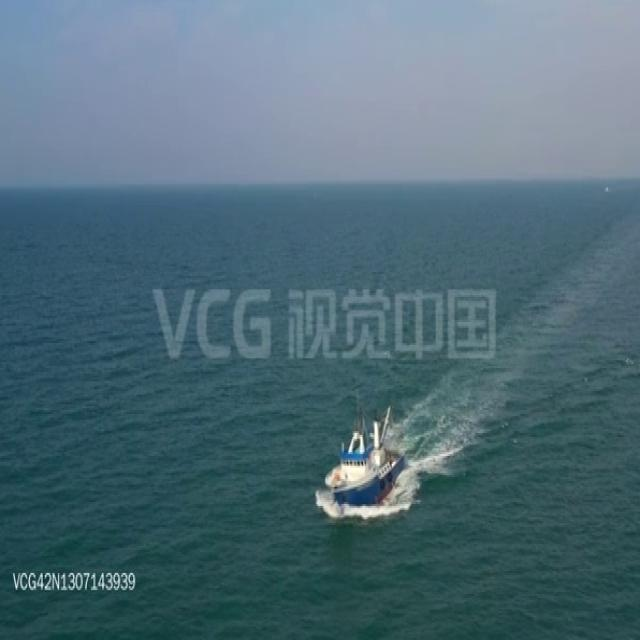houseboat: (325, 397, 403, 504)
